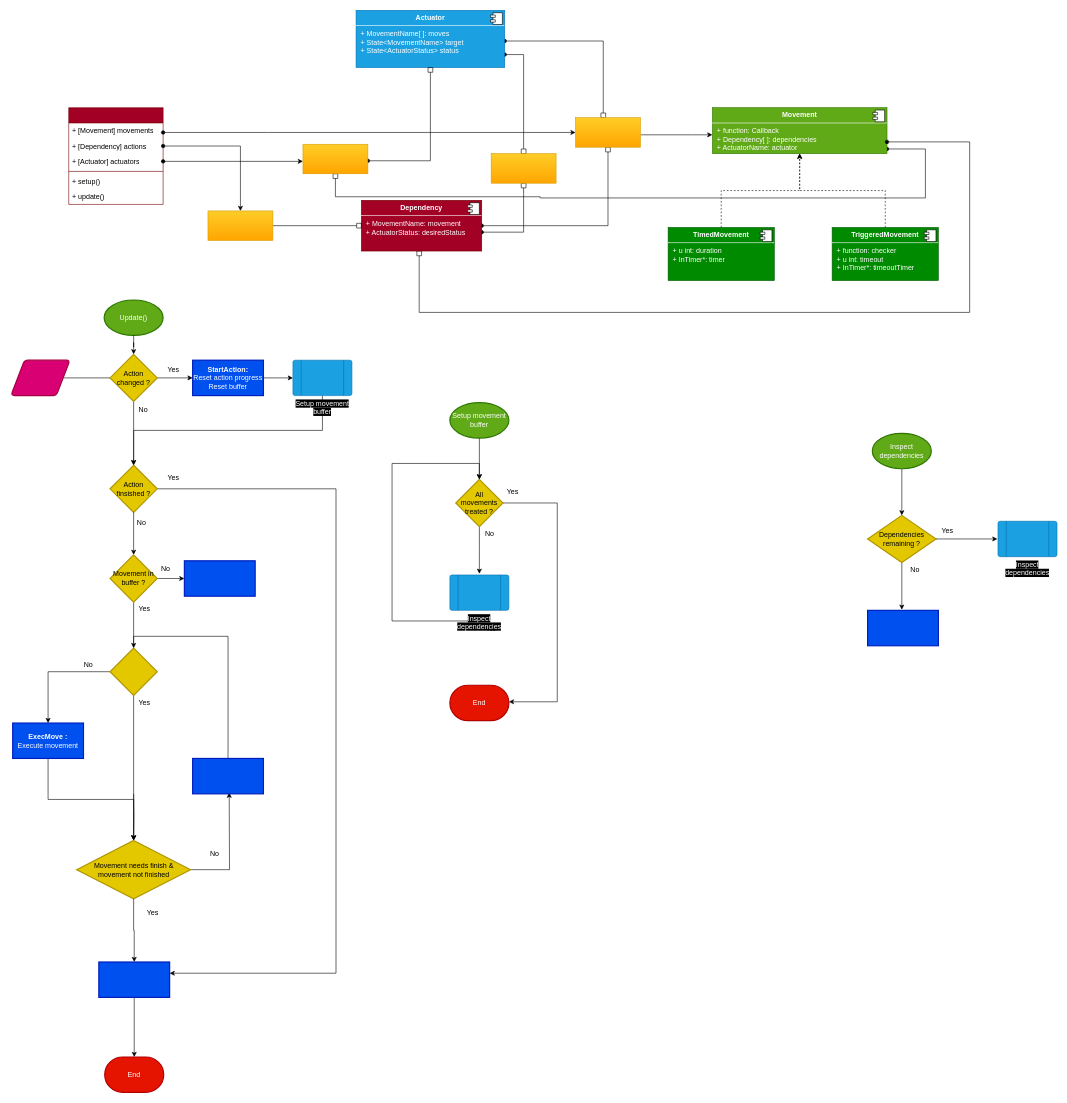
Image size: 1067x1103. Some labels were removed from this diagram. Here are the shapes that lost their labels. From the top down, the box of each, then its label:
(575, 117, 640, 147): Enum MovementName
(68, 107, 163, 204): ActionController
(302, 144, 368, 174): Enum ActuatorName
(491, 153, 556, 183): Enum ActuatorStatus
(207, 210, 273, 240): Enum ActionName
(10, 359, 70, 396): GlobalState action
(183, 560, 255, 596): Finish action
(867, 609, 939, 646): Add movement : top of stack + increment
(109, 647, 158, 696): Movement started ?
(192, 758, 264, 794): FinishMove remove movement from buffer
(98, 961, 170, 998): Update hardware
